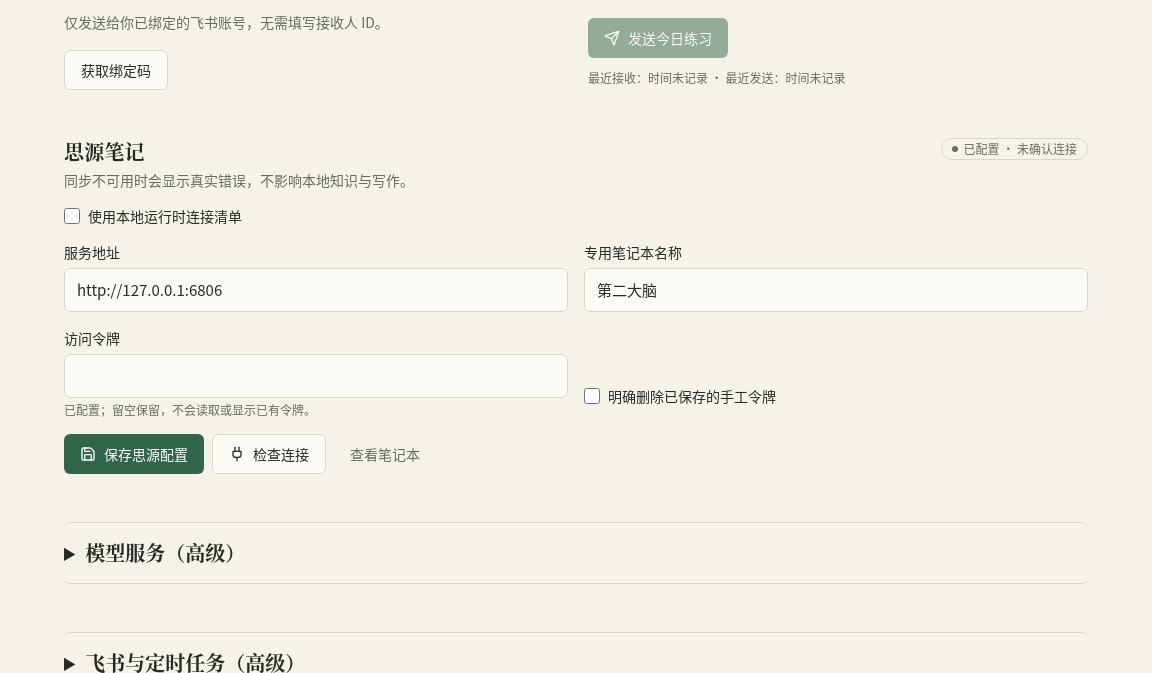
Test: 实际设置 DTO 与秘密省略 › 思源保存发送运行时标记、笔记本和修订，空 token 不覆盖已有令牌
(page scrolled)
Check: the field labelled "服务地址" holds "http://127.0.0.1:6806", box [64,268,568,312]
Click the button "保存思源配置" at [134, 454], box [64,434,204,474]
(page scrolled)
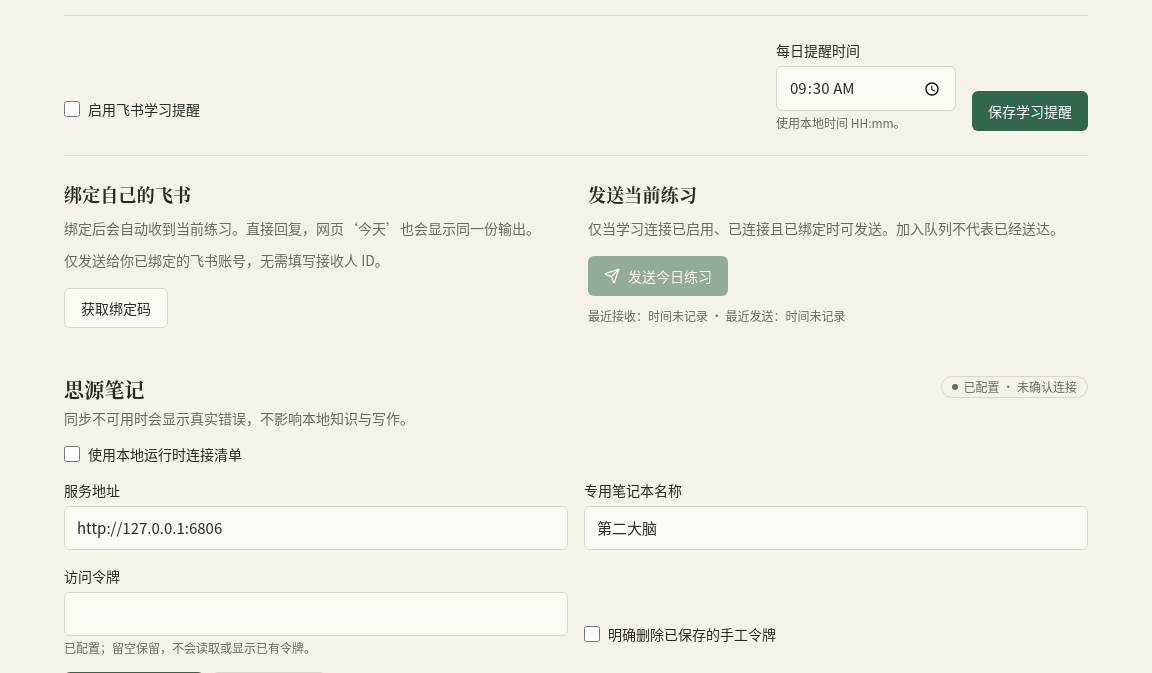
Check: the password field labelled "访问令牌" is empty, box [64,592,568,636]
